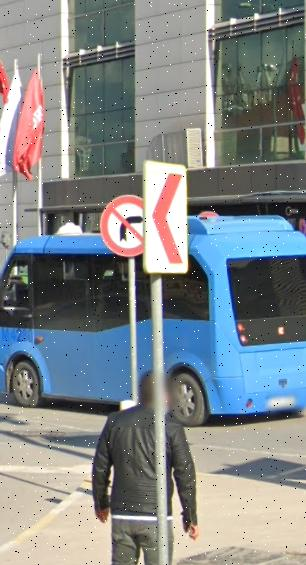rightturnsareforbidden: (103, 191, 147, 254)
